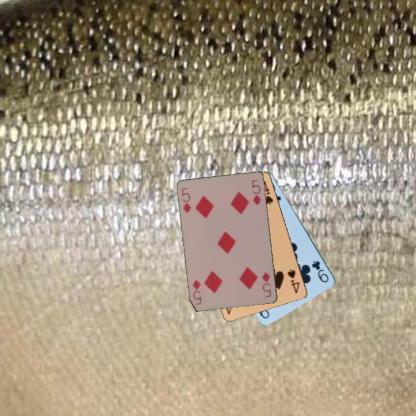4s: (285, 267, 301, 295)
5d: (259, 269, 273, 299), (179, 185, 193, 214)
9c: (309, 258, 330, 284)
